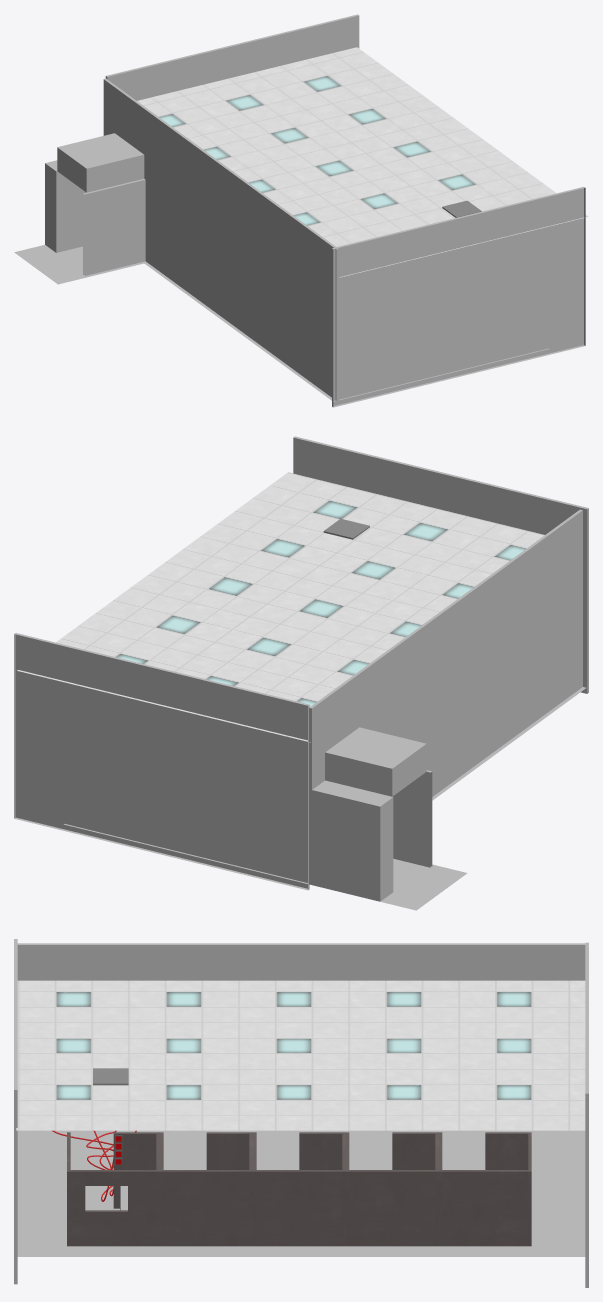
Rendered from office.gltf.
The picture shows the model from 3 angles, top to bottom: view 1: azimuth 30°, elevation 25°; view 2: azimuth 150°, elevation 25°; view 3: azimuth 270°, elevation 25°; orthographic projection. The views are drawn at different scales.
Parts seen in each view (by area): view 1: leftwall and doorway, roof, backwall, frontwall, Floor; view 2: roof, frontwall, leftwall and doorway, backwall, Floor; view 3: roof, Floor, leftwall and doorway, walls.001, walls.002, walls.003, walls.004, playerCubicle.002, frontwall, backwall, Cube.
Part boxes in pixels (left/top/right/bottom): leftwall and doorway: left=45, top=78, right=338, bottom=400; roof: left=137, top=47, right=588, bottom=277; backwall: left=332, top=187, right=585, bottom=407; frontwall: left=105, top=14, right=359, bottom=100; Floor: left=14, top=245, right=548, bottom=401; roof: left=17, top=472, right=544, bottom=742; frontwall: left=14, top=633, right=309, bottom=890; leftwall and doorway: left=309, top=509, right=582, bottom=901; backwall: left=293, top=436, right=588, bottom=693; Floor: left=64, top=687, right=586, bottom=910; roof: left=16, top=980, right=585, bottom=1130; Floor: left=17, top=1130, right=585, bottom=1256; leftwall and doorway: left=17, top=943, right=585, bottom=980; walls.001: left=253, top=1132, right=345, bottom=1246; walls.002: left=346, top=1132, right=438, bottom=1246; walls.003: left=439, top=1132, right=531, bottom=1246; walls.004: left=160, top=1132, right=252, bottom=1246; playerCubicle.002: left=67, top=1132, right=159, bottom=1246; frontwall: left=585, top=942, right=588, bottom=1287; backwall: left=14, top=939, right=17, bottom=1284; Cube: left=93, top=1068, right=128, bottom=1085.
Bounding box in the file's own units: 6.83 × 3.01 × 8.04.
